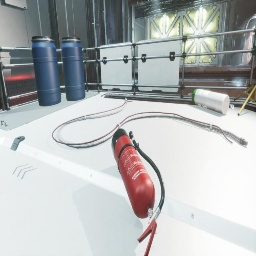0: (188, 89, 230, 114)
FireExtinguisher ]: (111, 128, 165, 256)
SafetySwitchPanel ,: (2, 0, 27, 10)
